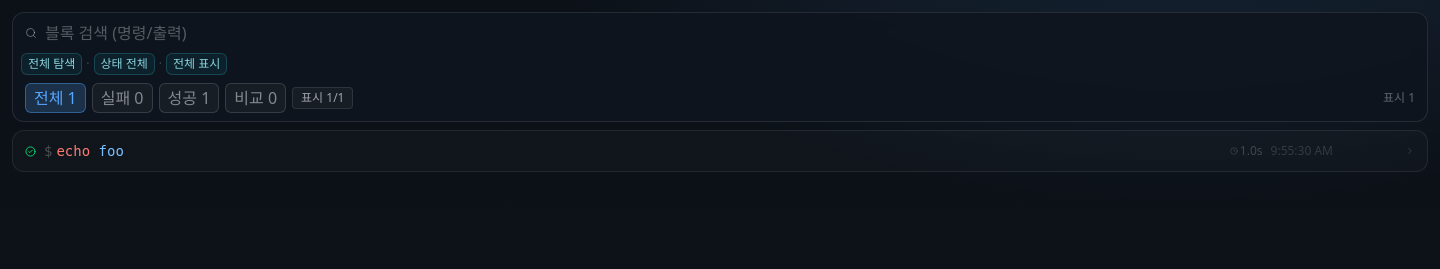
Test: WarpListView block search navigation › Enter/Shift+Enter로 매치 커서 이동
Click the element with class "cursor-pointer": point(73, 151) left=25, top=142, right=1415, bottom=159
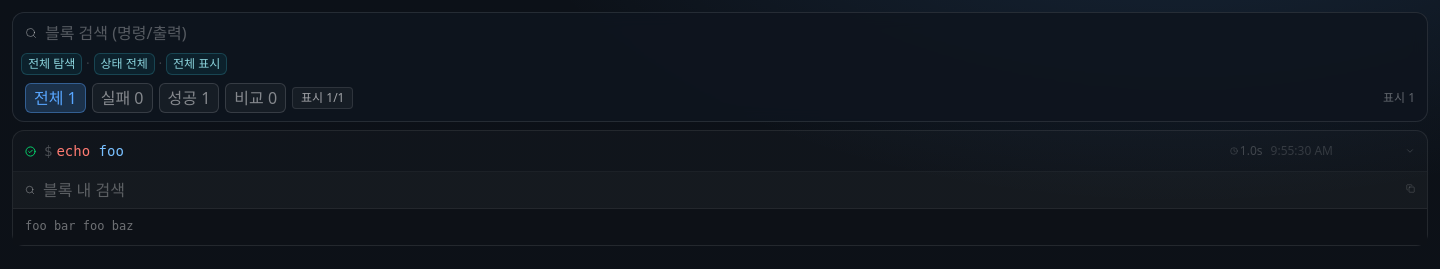
In the field with placeholder "블록 내 검색": point(729, 190) left=43, top=178, right=1415, bottom=202, type "foo"
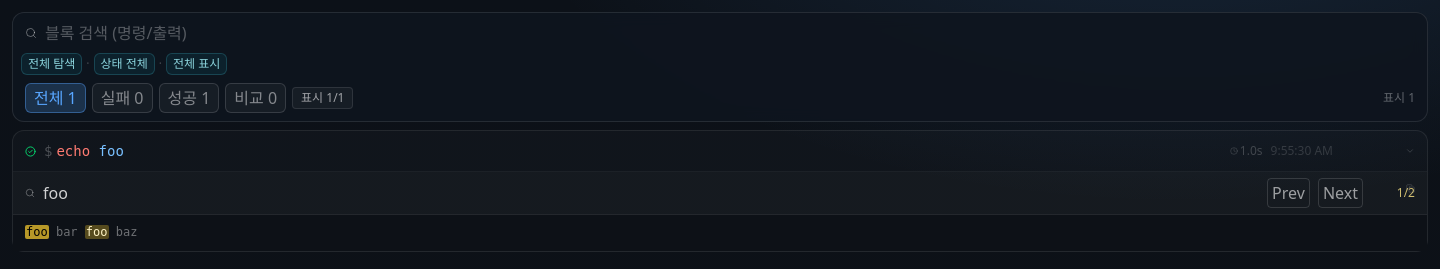
Result: the text "1/2" is shown at left=1397, top=184, right=1415, bottom=201
Press Enter in the field with placeholder "블록 내 검색", box left=43, top=181, right=1259, bottom=205
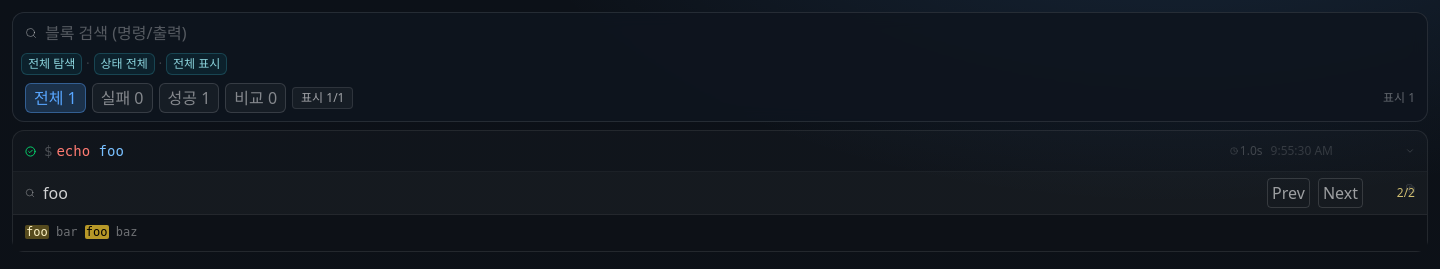
Result: the text "2/2" is shown at left=1397, top=184, right=1415, bottom=201
Press Enter in the field with placeholder "블록 내 검색", box left=43, top=181, right=1259, bottom=205
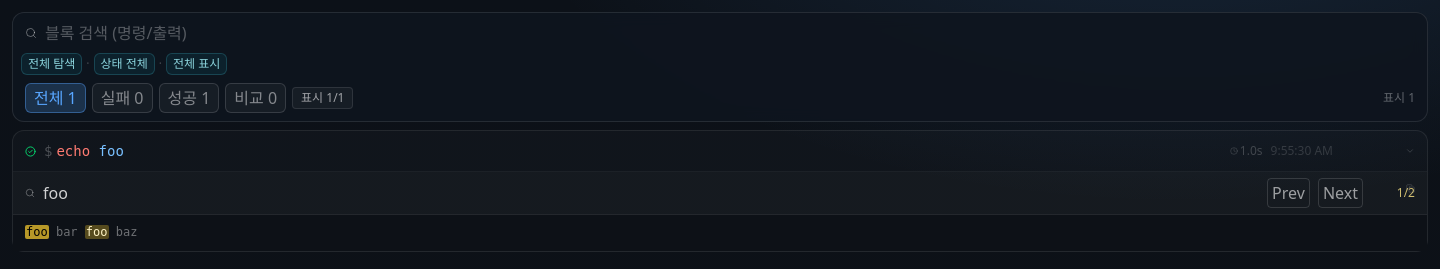
Result: the text "1/2" is shown at left=1397, top=184, right=1415, bottom=201
